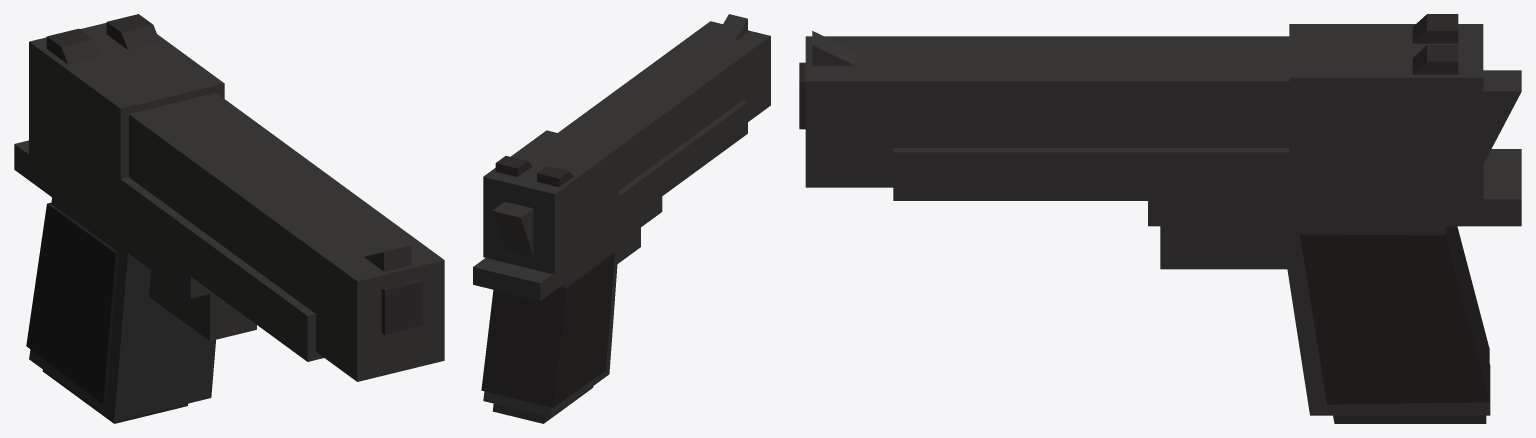
File: PistolEagle.FBX
3 renders of one model, left to right at view 1: azimuth 30°, elevation 25°; view 2: azimuth 150°, elevation 25°; view 3: azimuth 270°, elevation 25°, orthographic. The views are drawn at different scales.
Visible parts, largest first — view 1: PistolEagle, PistolEagle_slide, PistolEagle_mag; view 2: PistolEagle, PistolEagle_slide, PistolEagle_mag; view 3: PistolEagle, PistolEagle_slide, PistolEagle_mag.
Part boxes in pixels (bbox=[...]): PistolEagle: bbox=[14, 93, 444, 421]; PistolEagle_slide: bbox=[29, 14, 323, 361]; PistolEagle_mag: bbox=[42, 370, 187, 423]; PistolEagle: bbox=[473, 14, 770, 417]; PistolEagle_slide: bbox=[483, 100, 747, 274]; PistolEagle_mag: bbox=[492, 386, 593, 423]; PistolEagle: bbox=[799, 31, 1521, 415]; PistolEagle_slide: bbox=[893, 14, 1521, 200]; PistolEagle_mag: bbox=[1333, 415, 1486, 423].
Size of the model in its own units: 11.32 by 64.37 by 36.1.
